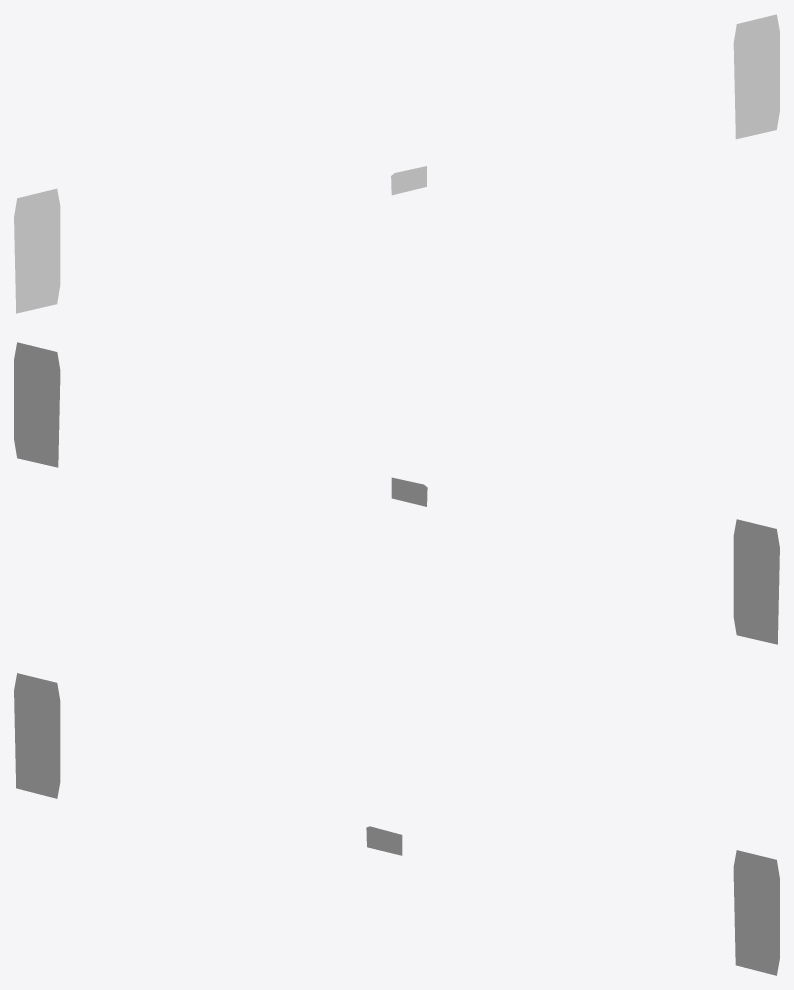
The picture shows the model from 3 angles, top to bottom: view 1: azimuth 30°, elevation 25°; view 2: azimuth 150°, elevation 25°; view 3: azimuth 330°, elevation 25°; orthographic projection.
Size of the model in its own units: 2.95 by 0.426 by 0.0867.
Materials: 1 (1 with a texture image).
